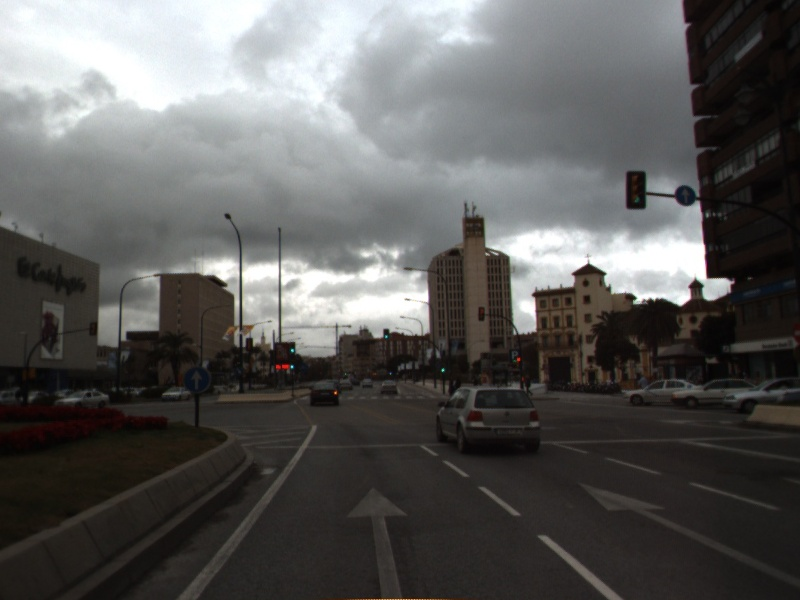STRAIGHT: (574, 479, 800, 588), (342, 484, 412, 600)
